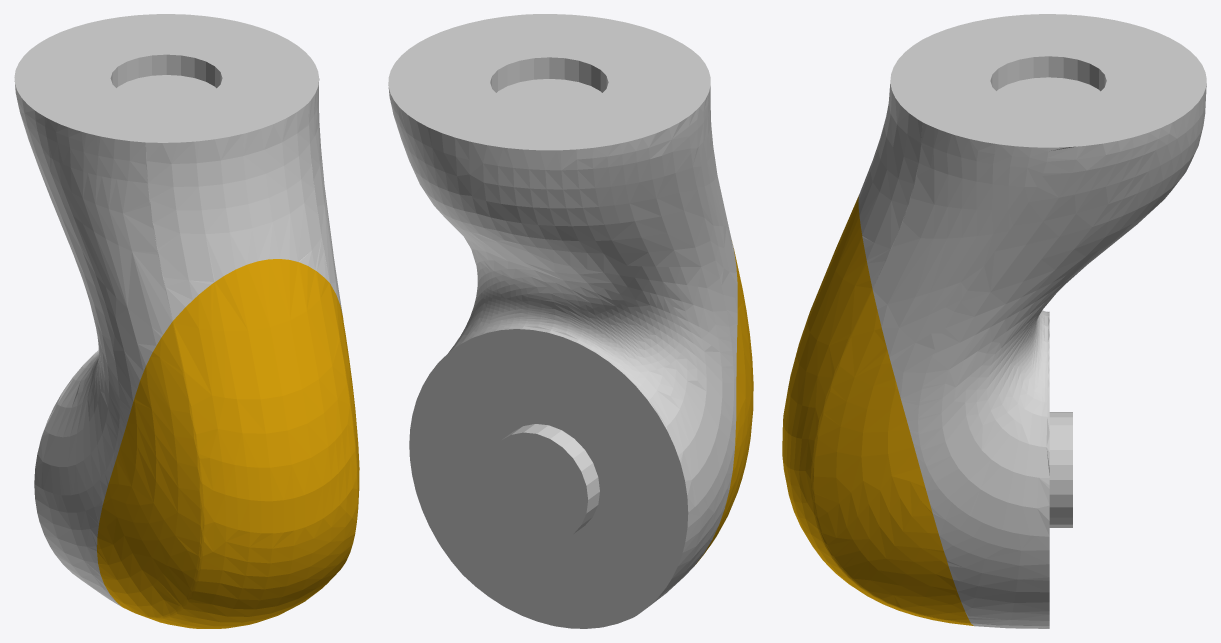
3 renders of one model, left to right at view 1: azimuth 30°, elevation 25°; view 2: azimuth 150°, elevation 25°; view 3: azimuth 270°, elevation 25°, orthographic. The views are drawn at different scales.
Visible parts, largest first — view 1: ShapeIndexedFaceSet; view 2: ShapeIndexedFaceSet; view 3: ShapeIndexedFaceSet.
Part boxes in pixels (<box>): ShapeIndexedFaceSet: <box>14,14,359,628</box>; ShapeIndexedFaceSet: <box>388,14,753,628</box>; ShapeIndexedFaceSet: <box>782,14,1206,628</box>.
Size of the model in its own units: 0.136 by 0.1825 by 0.2525.
